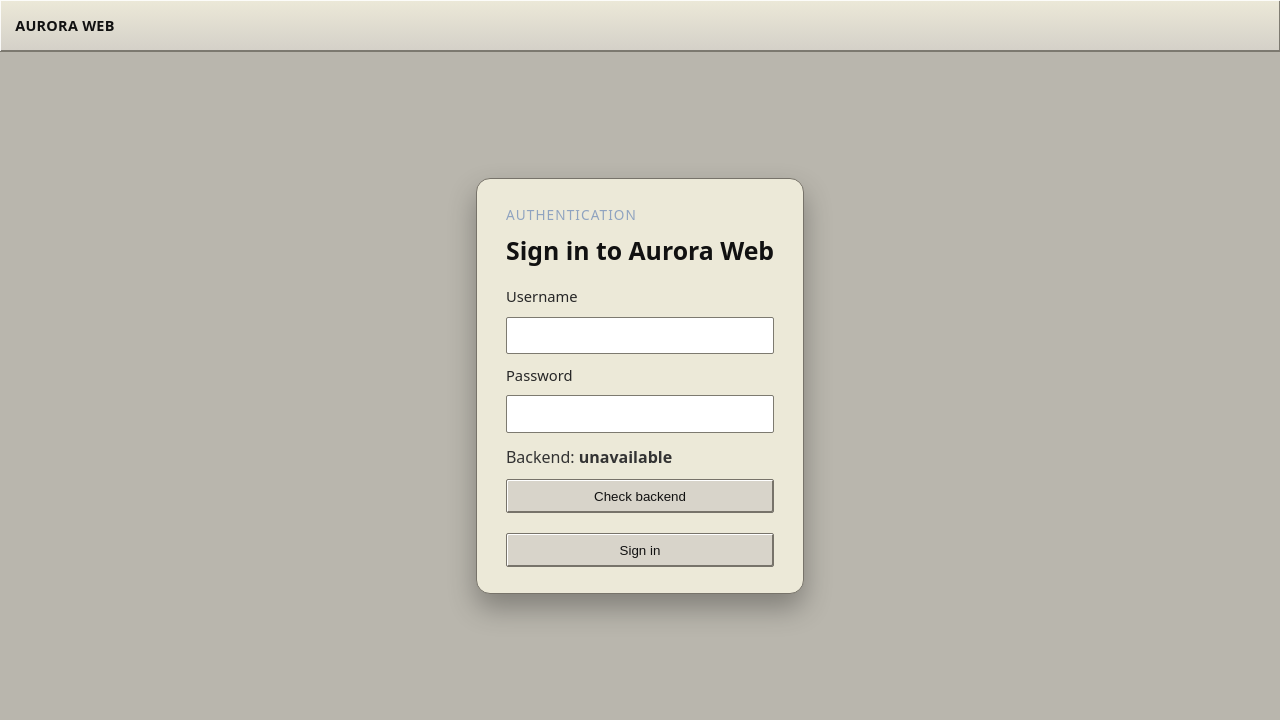
it: Regression smoke: auth shell behavior › keeps rejected credentials on login with an explicit error
The image size is (1280, 720).
Type "admin.user" into the field labelled "Username" at (640, 336), box x1=506 y1=317 x2=774 y2=354
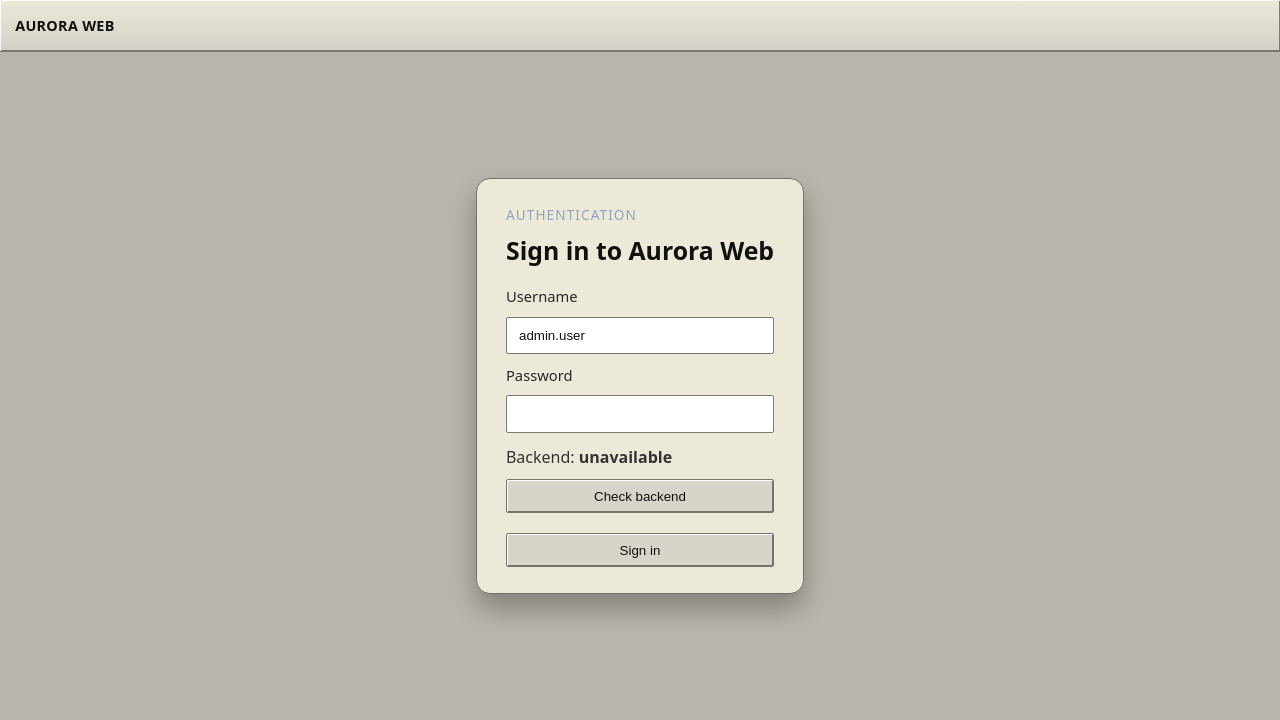
Type "bad-pass" into the password field labelled "Password" at (640, 414), box x1=506 y1=395 x2=774 y2=433
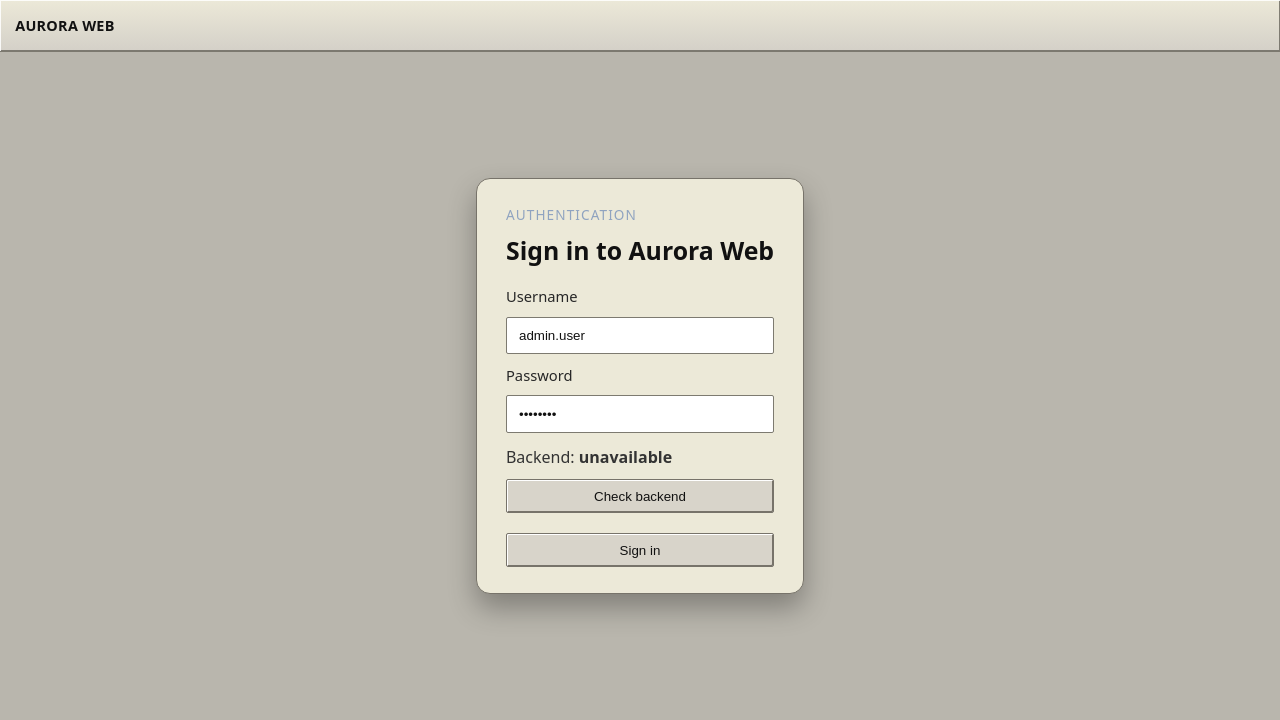
Click the button "Sign in" at (640, 550), box x1=506 y1=533 x2=774 y2=567
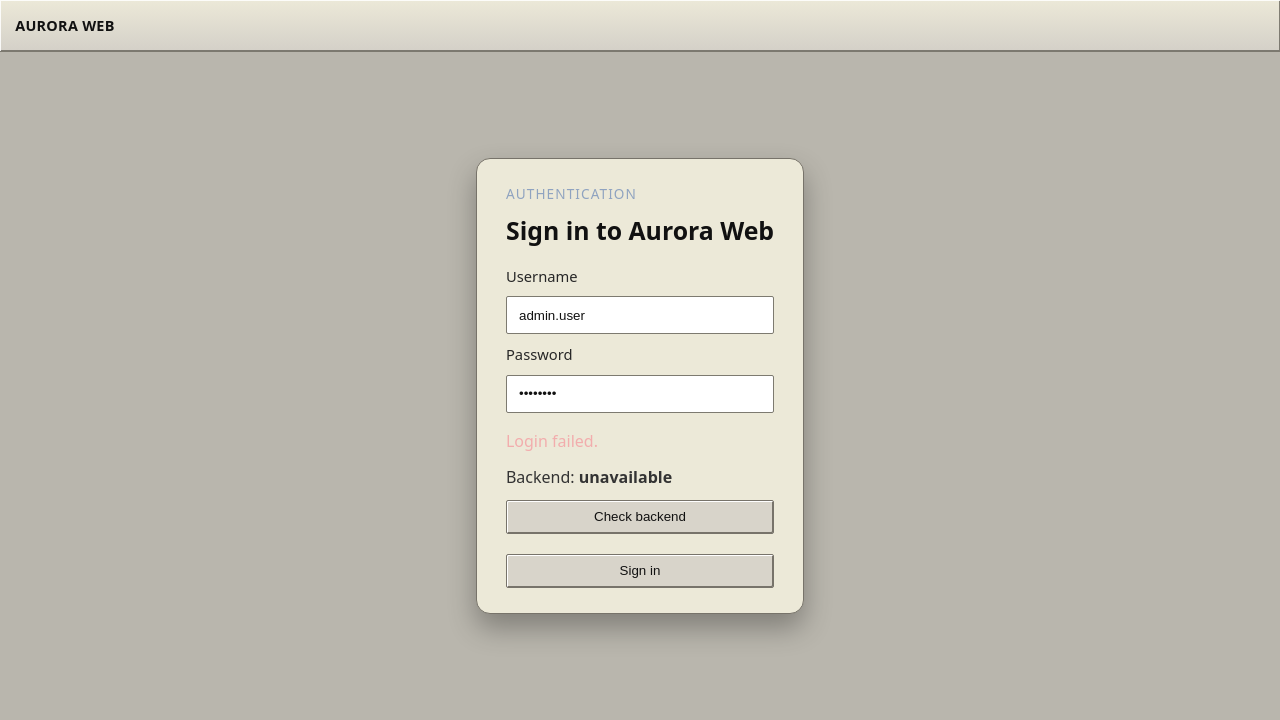
Check: the text "Login failed." is shown, box x1=506 y1=430 x2=598 y2=452
